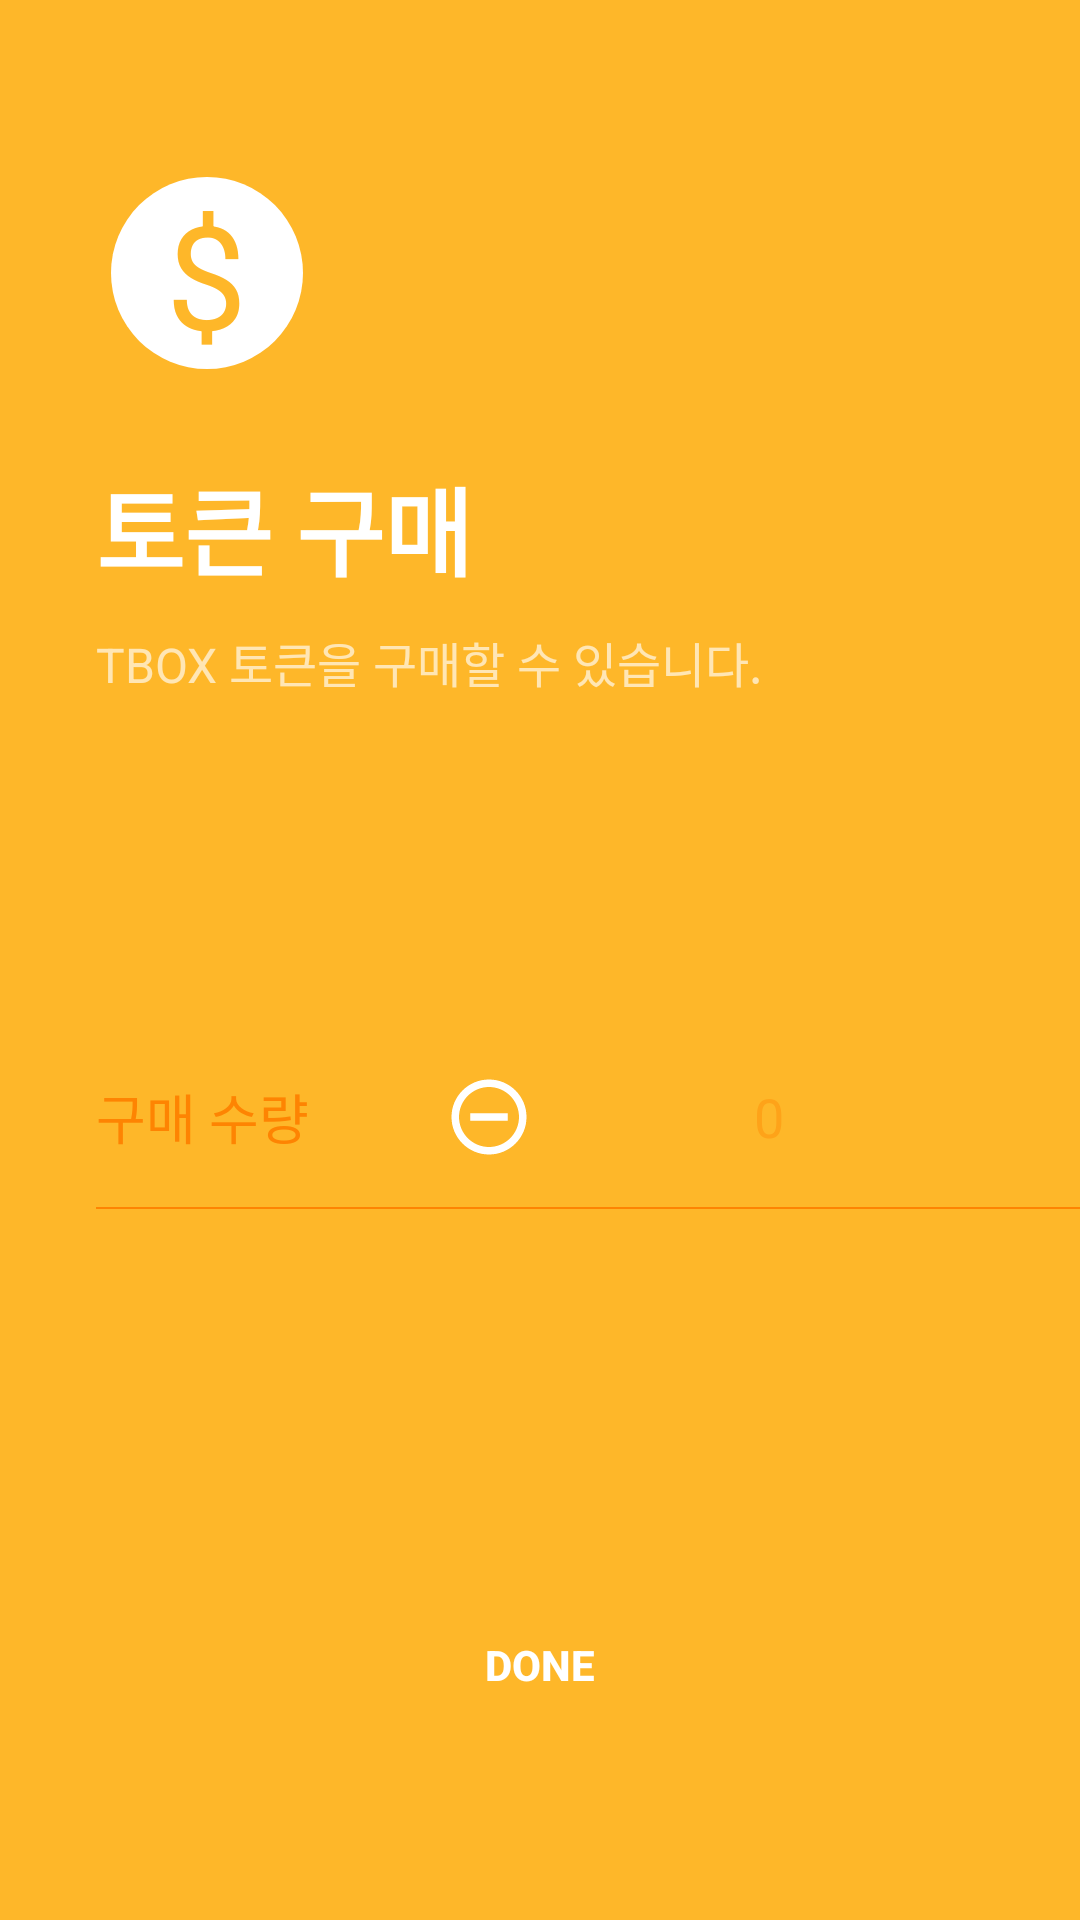

Locate icon controls on the screen. Image size 1080x1920, boxes as (x1, y1, x2, y2).
minus token: (451, 1079, 527, 1155)
